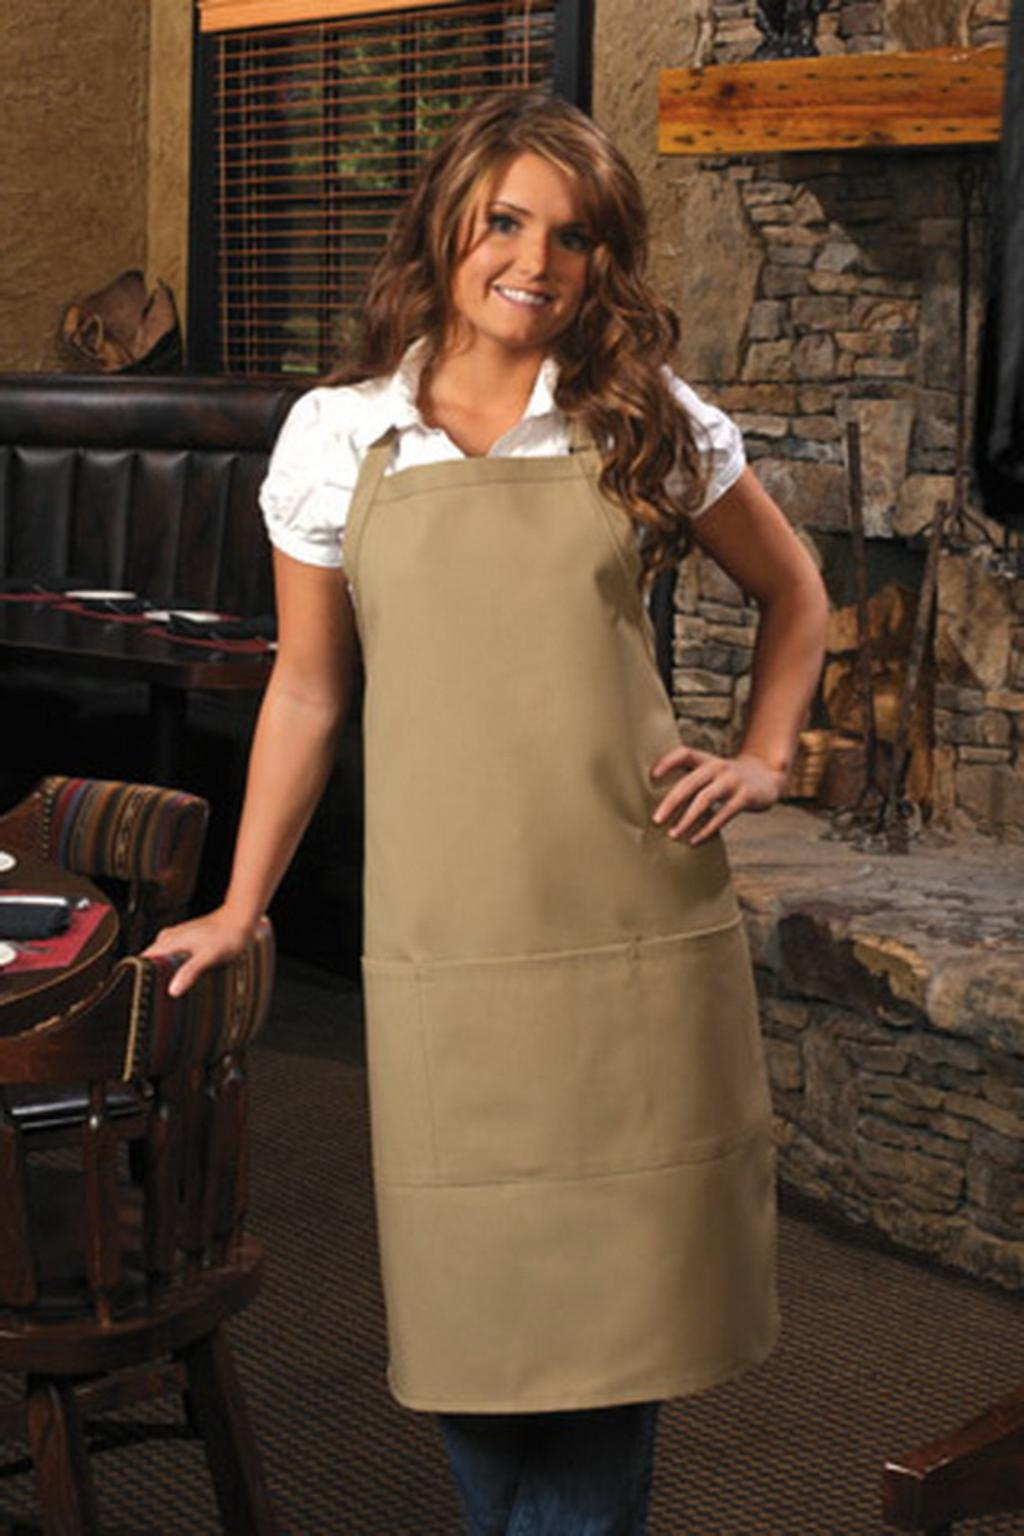face: (441, 150, 600, 342)
